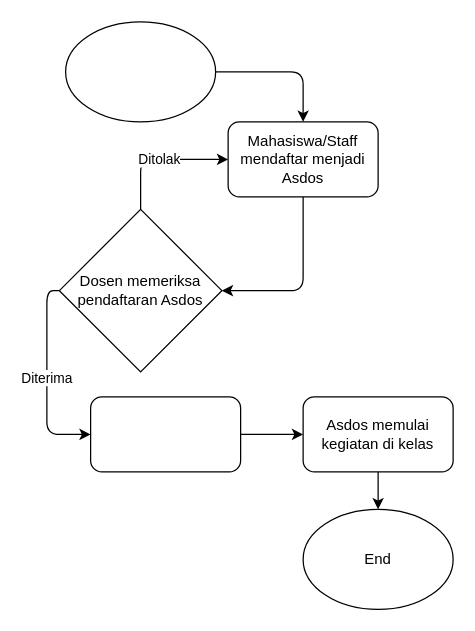
Some shapes in this 475 by 631 pixel diagram are drawn without their labels. Each missing label, with the centre of its shape:
"Asdos memilih jadwal kelas" goes at point (165, 434).
"Start" goes at point (140, 71).
